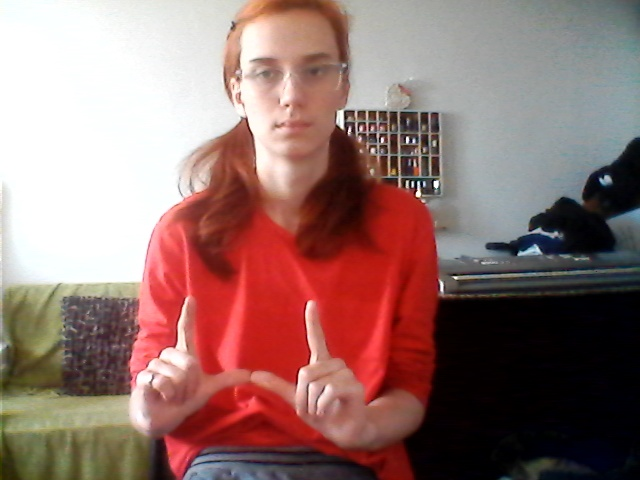u: (132, 277, 379, 449)
